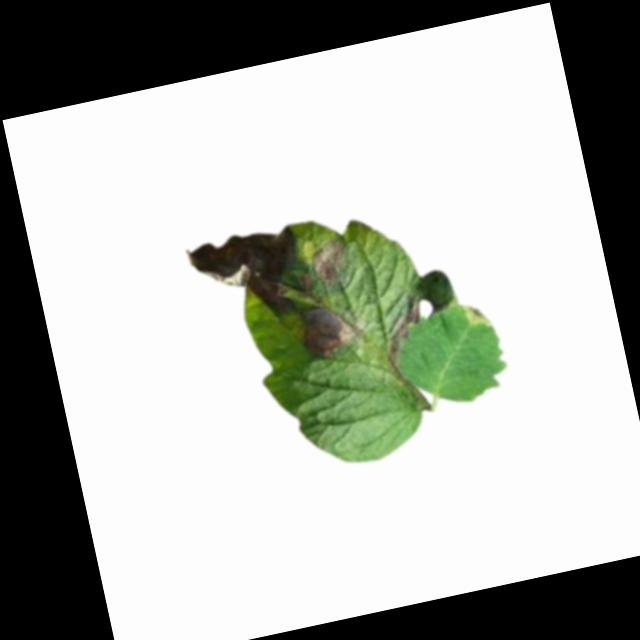Late_blight: (183, 220, 309, 332), (379, 302, 435, 386), (295, 294, 363, 360), (307, 234, 356, 290), (461, 301, 492, 330)
